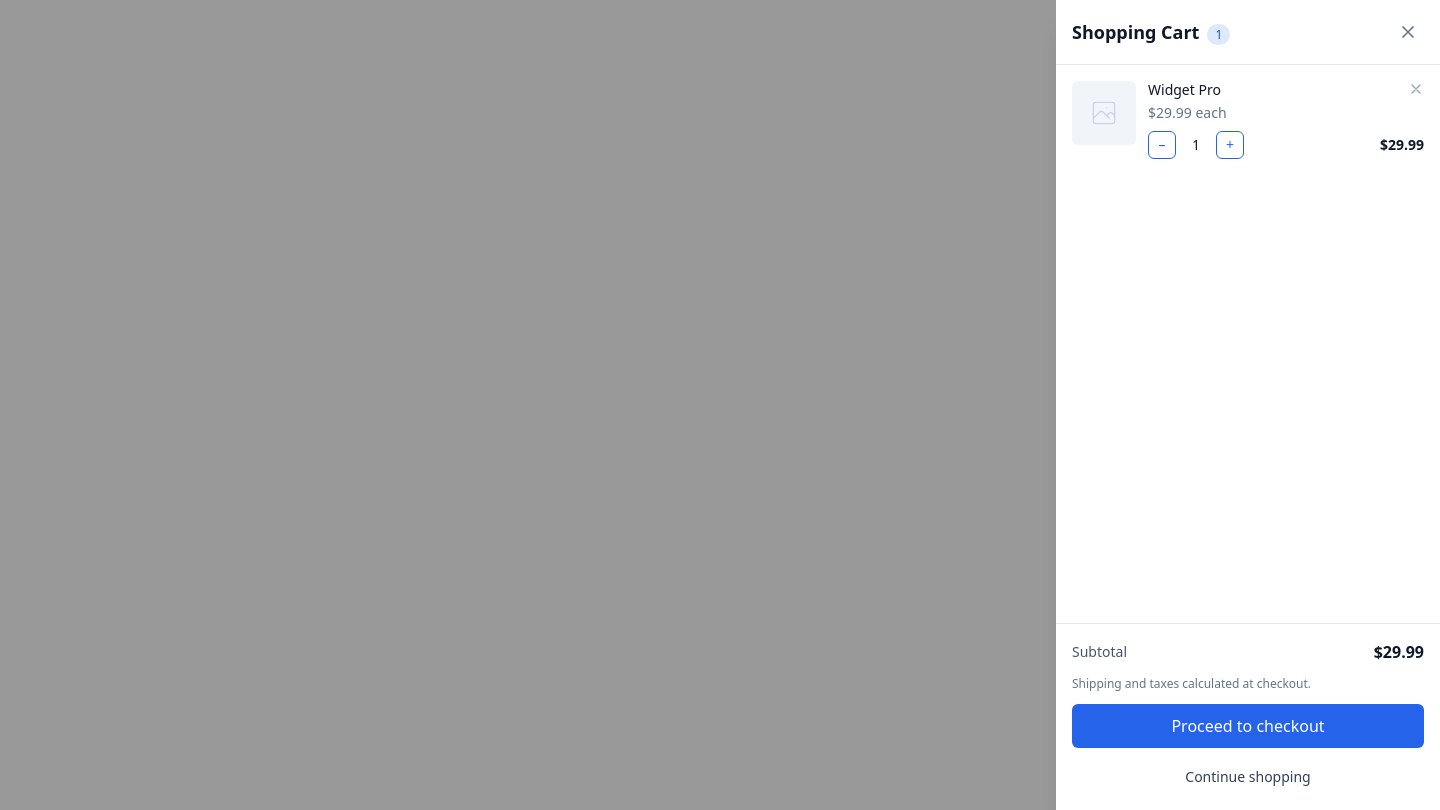
Test: CartFlow — remove item › shows empty cart state after removing the last item
Step 1. Click the button named "Remove Widget Pro from cart" → (1416, 89), box [1408,81,1424,97]
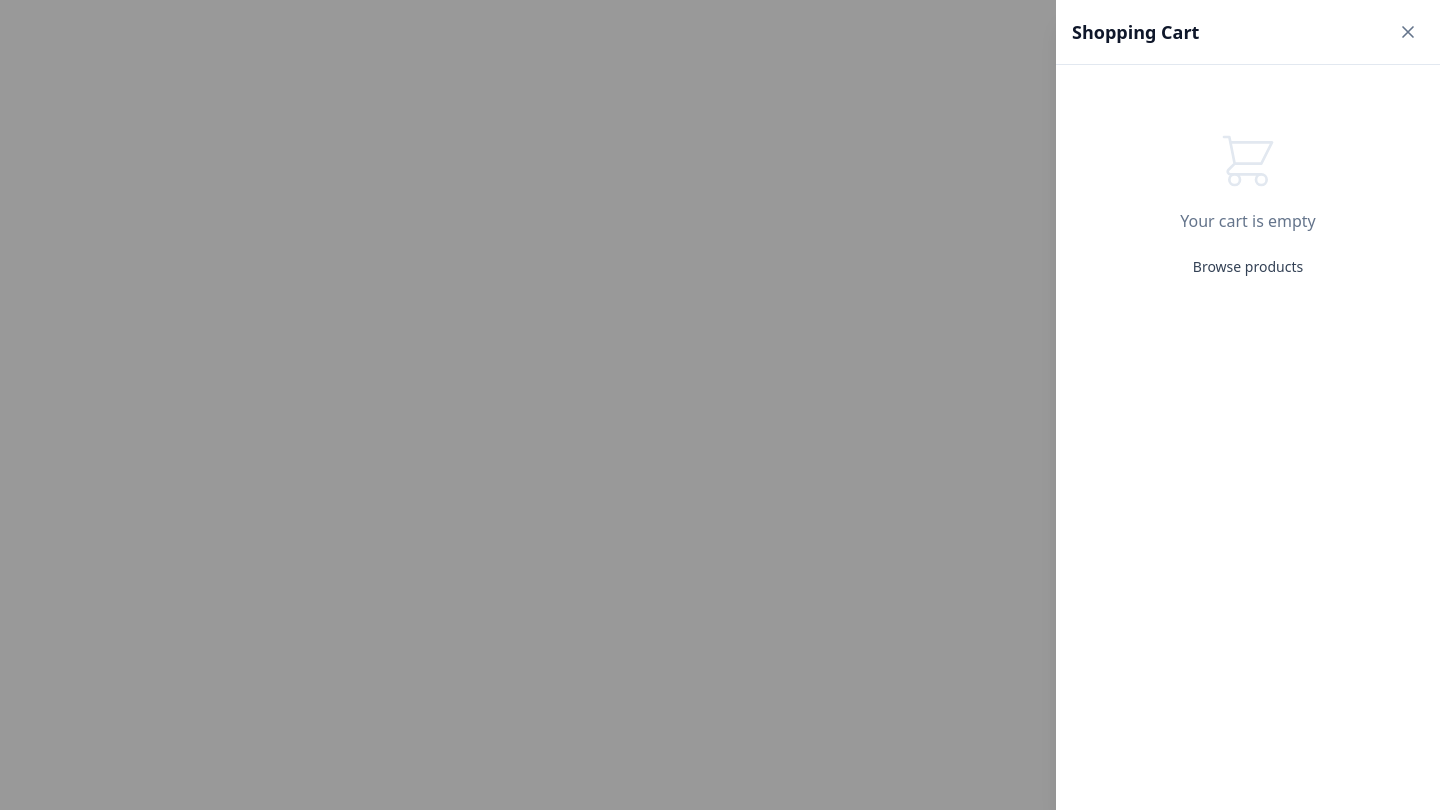
Result: the text "Your cart is empty" is shown at [1180,209,1316,233]
